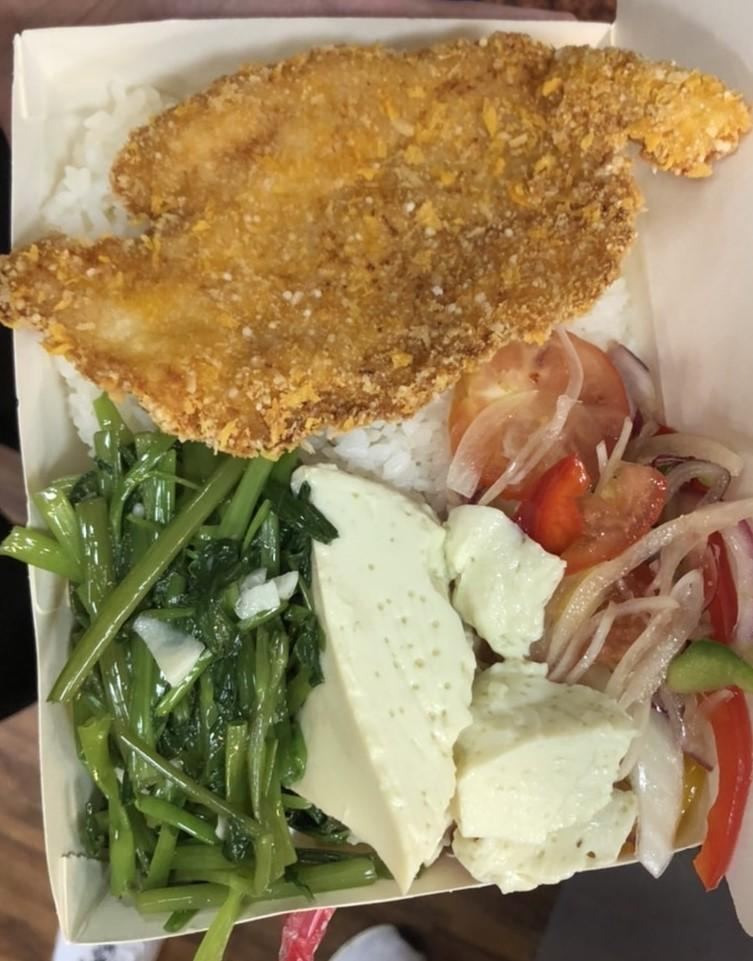big grilled chicken leg: (0, 8, 736, 960)
big herbal chicken leg: (38, 72, 633, 461)
braised fish fillet: (462, 338, 753, 864), (34, 424, 328, 912), (294, 466, 633, 883)
braised pork: (0, 32, 742, 452)
